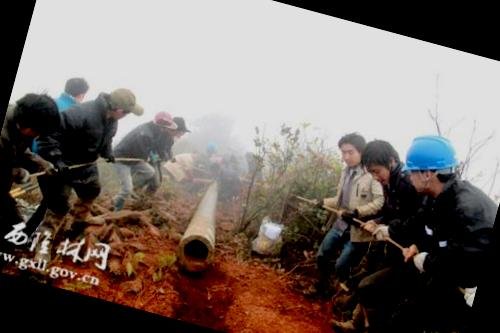no_helmet: (6, 85, 68, 150), (350, 130, 408, 190), (99, 82, 145, 129), (329, 126, 370, 172), (56, 72, 97, 108)
